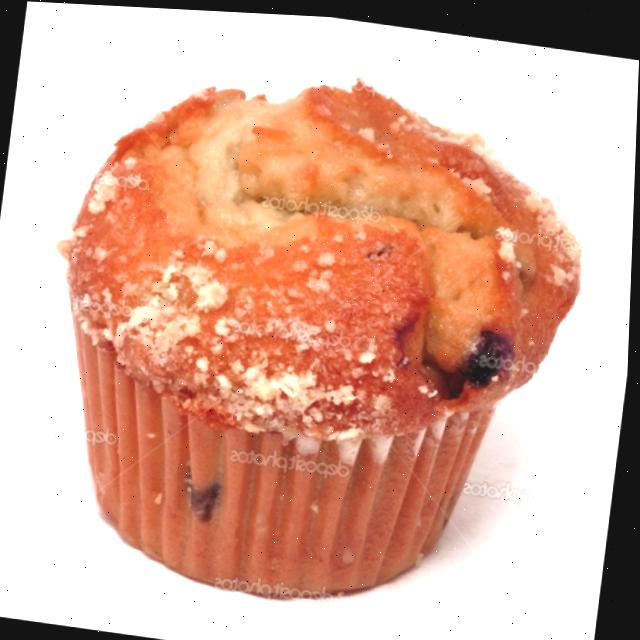炸货点心: (22, 31, 611, 634)
面包点心: (22, 31, 611, 634)
